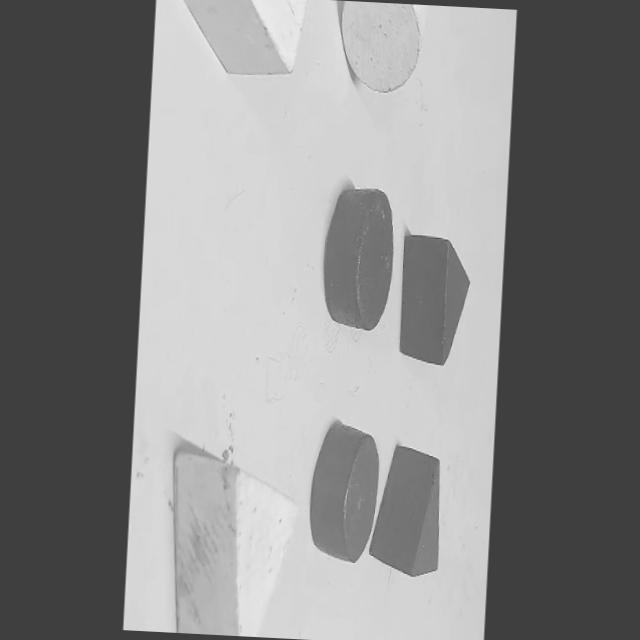bcircle: (320, 185, 397, 333)
btriangle: (394, 232, 472, 368), (441, 244, 472, 360)
rcircle: (306, 415, 383, 565)
rtriangle: (368, 441, 446, 579)
ytriangle: (168, 448, 302, 638)
